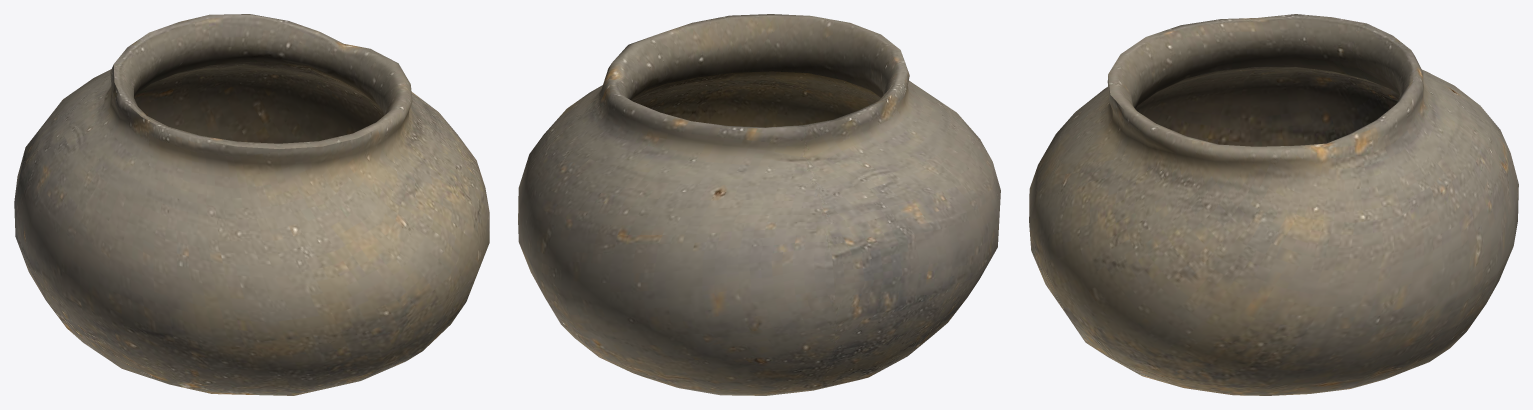
Rendered from antiquity7_73.fbx.
3 views of the same model, side by side, from view 1: azimuth 30°, elevation 25°; view 2: azimuth 150°, elevation 25°; view 3: azimuth 270°, elevation 25° (orthographic). The views are drawn at different scales.
Parts seen in each view (by area): view 1: 0504; view 2: 0504; view 3: 0504.
Part boxes in pixels (x1=…): 0504: x1=14, y1=14, x2=489, y2=395; 0504: x1=518, y1=14, x2=1000, y2=395; 0504: x1=1029, y1=14, x2=1518, y2=395.
Bounding box in the file's own units: 37.78 × 23.22 × 38.17.
Materials: 1 (1 with a texture image).
